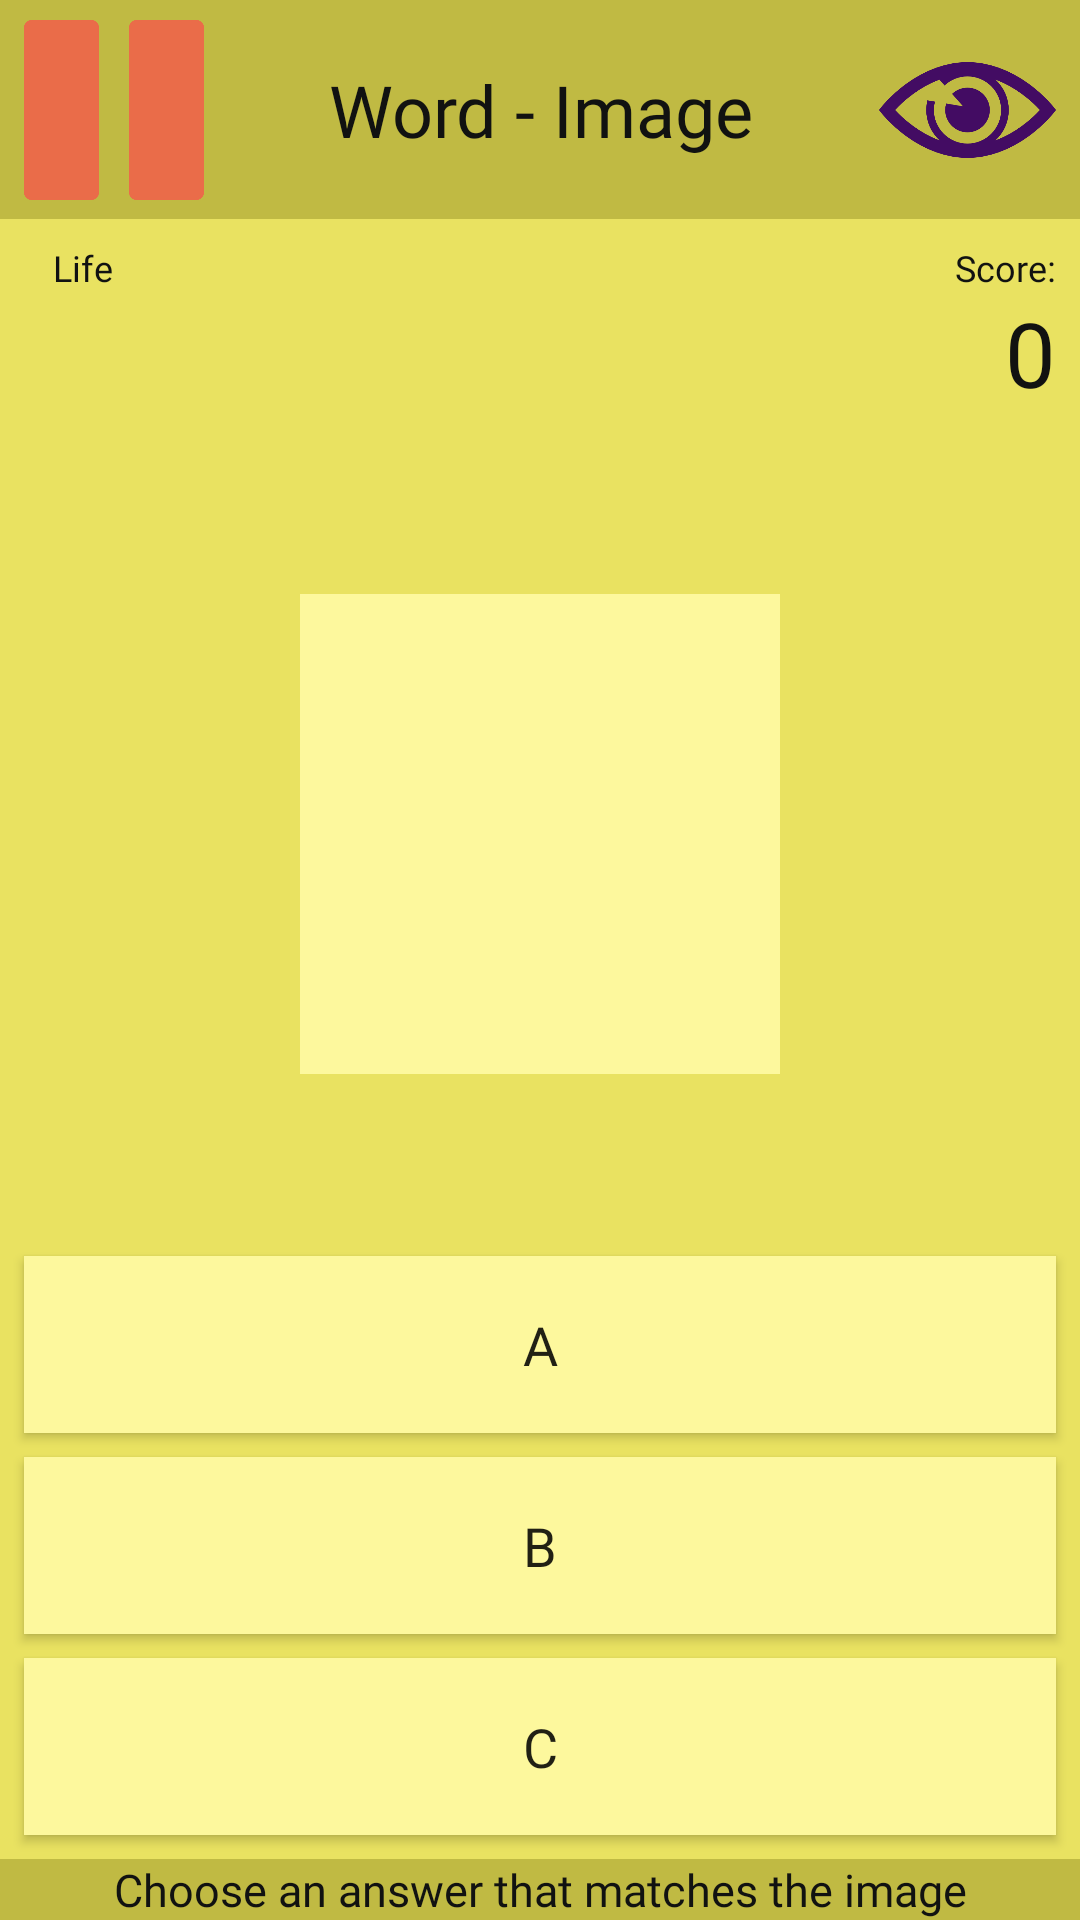

Where to tap for icons on this 1080 × 1920 app screen, as [x,y]:
eye: [967,110]
pause: [114,110]
